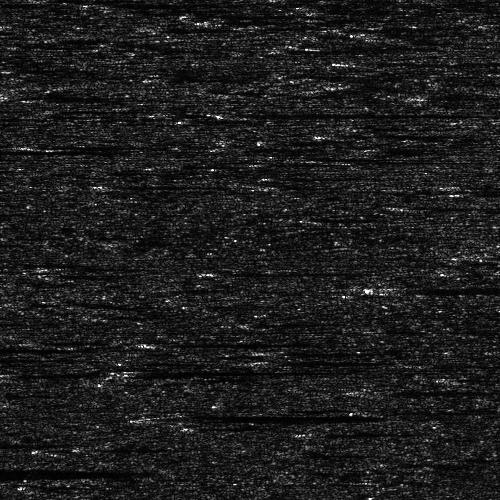rock: (79, 334, 184, 349), (226, 346, 341, 355), (210, 355, 303, 366), (324, 284, 417, 293), (160, 109, 265, 116), (307, 385, 412, 392), (382, 91, 455, 100), (116, 414, 179, 419), (0, 437, 27, 448), (198, 269, 239, 274), (111, 369, 152, 372), (23, 142, 34, 147)
shadow: (132, 334, 339, 349), (213, 109, 462, 116), (0, 463, 89, 480), (257, 355, 364, 366), (371, 284, 500, 293), (148, 414, 352, 419), (284, 346, 392, 355), (0, 145, 94, 154), (219, 269, 381, 274), (360, 385, 472, 392), (0, 437, 67, 448), (419, 91, 500, 100), (132, 369, 342, 372), (29, 142, 145, 147), (0, 314, 27, 325), (0, 114, 39, 117), (484, 253, 500, 256)
